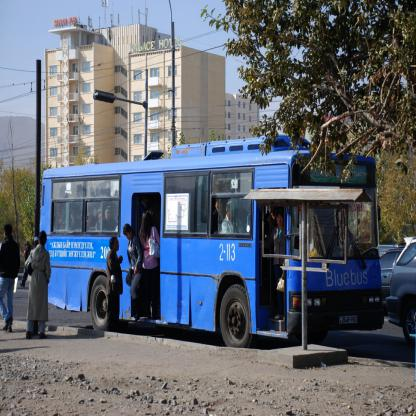Bus: (38, 133, 385, 348)
